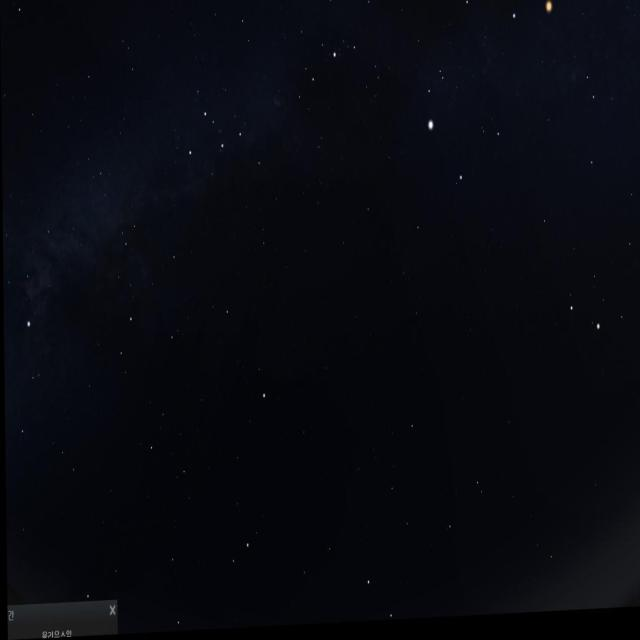cassiopeia: (173, 92, 265, 196)
